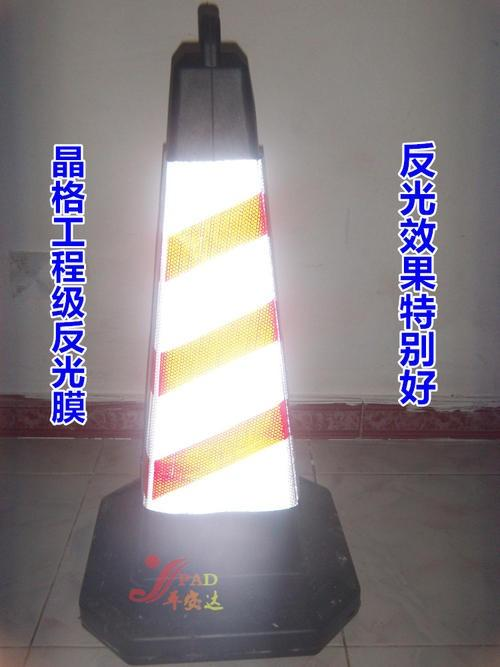cone_barrel: (113, 11, 315, 589)
